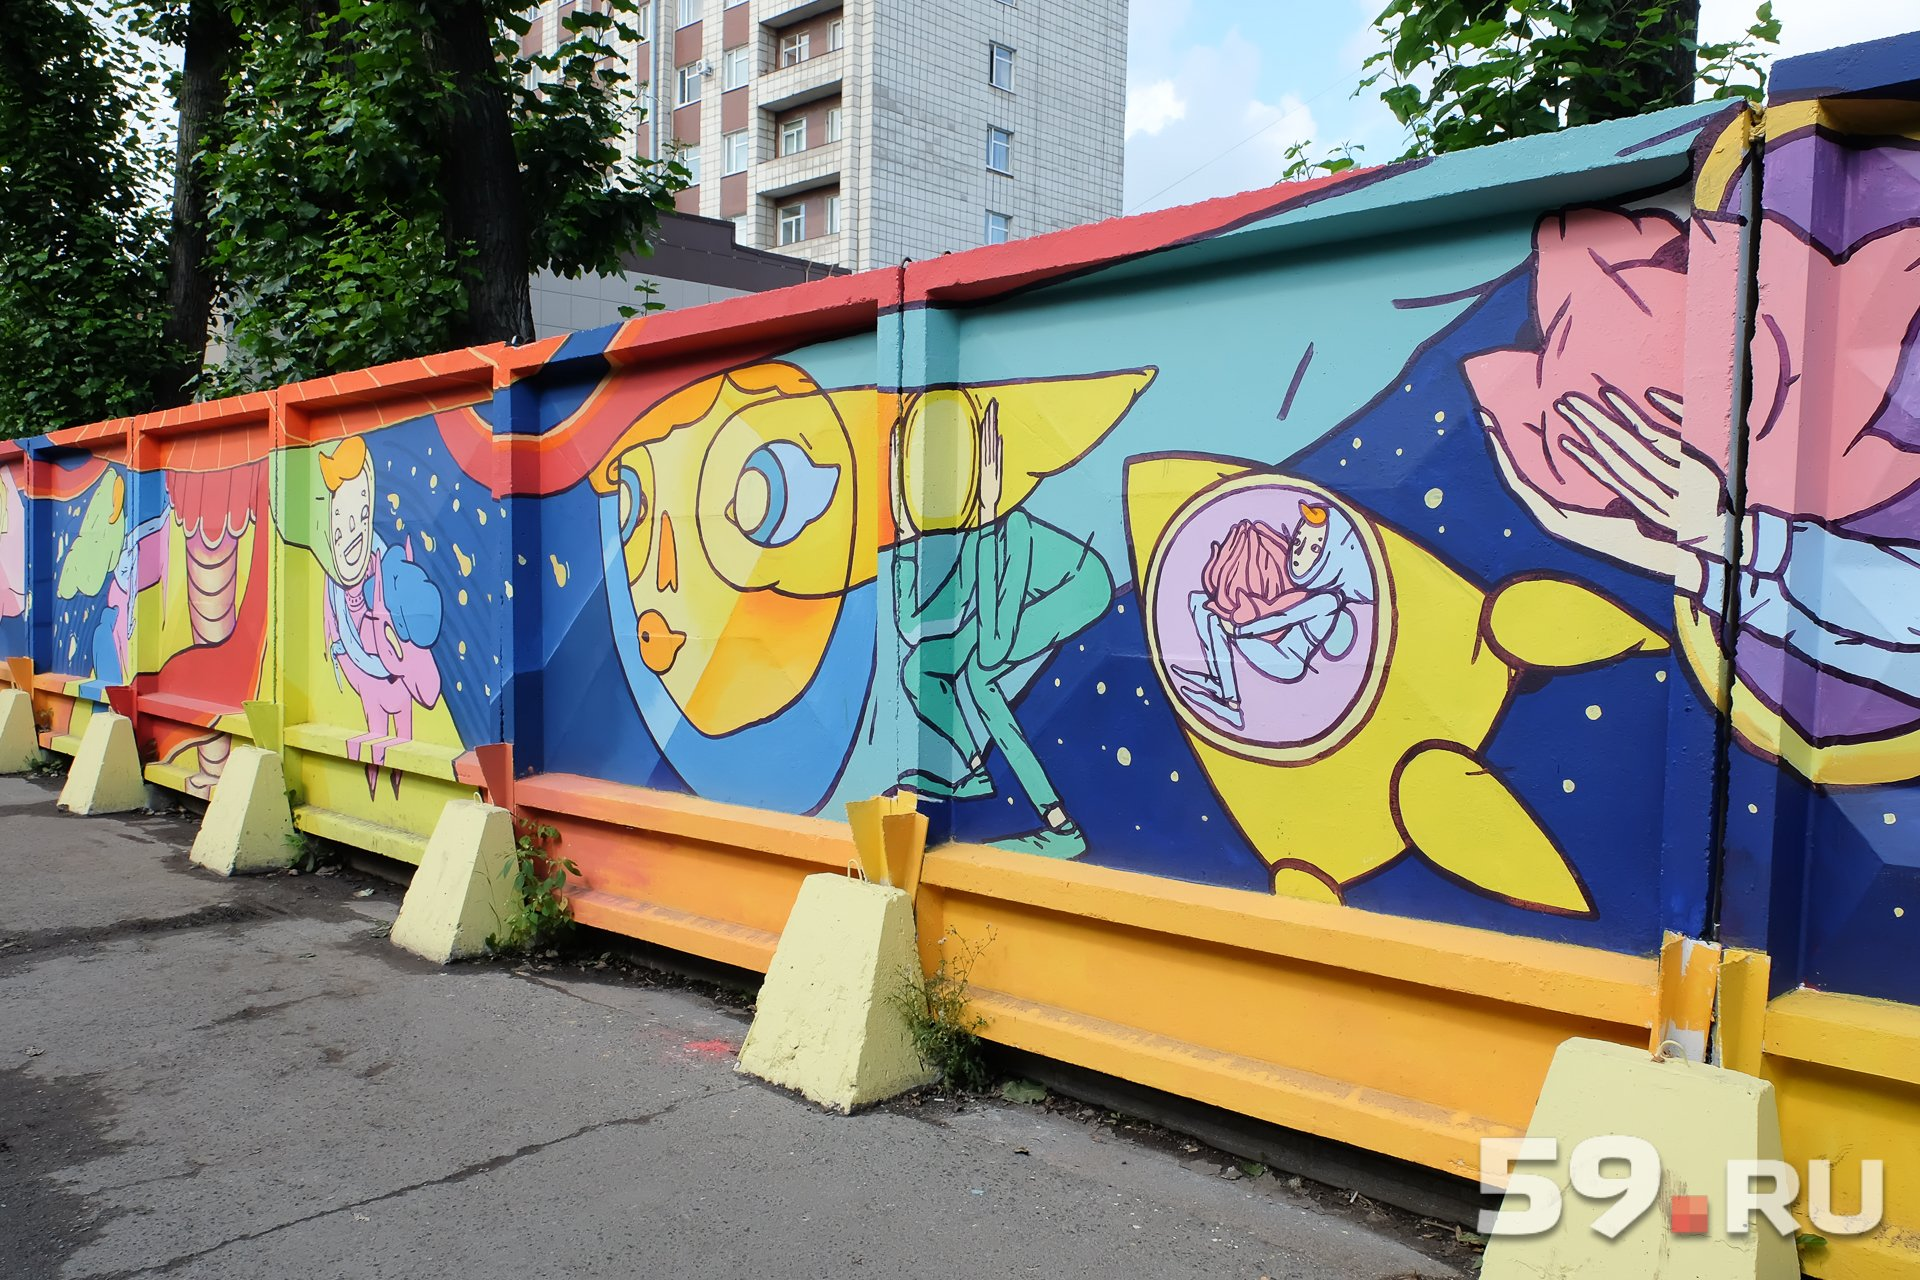graphite: (899, 276, 1920, 981), (457, 374, 1134, 737), (301, 446, 499, 820), (109, 439, 290, 760), (27, 457, 156, 701)
